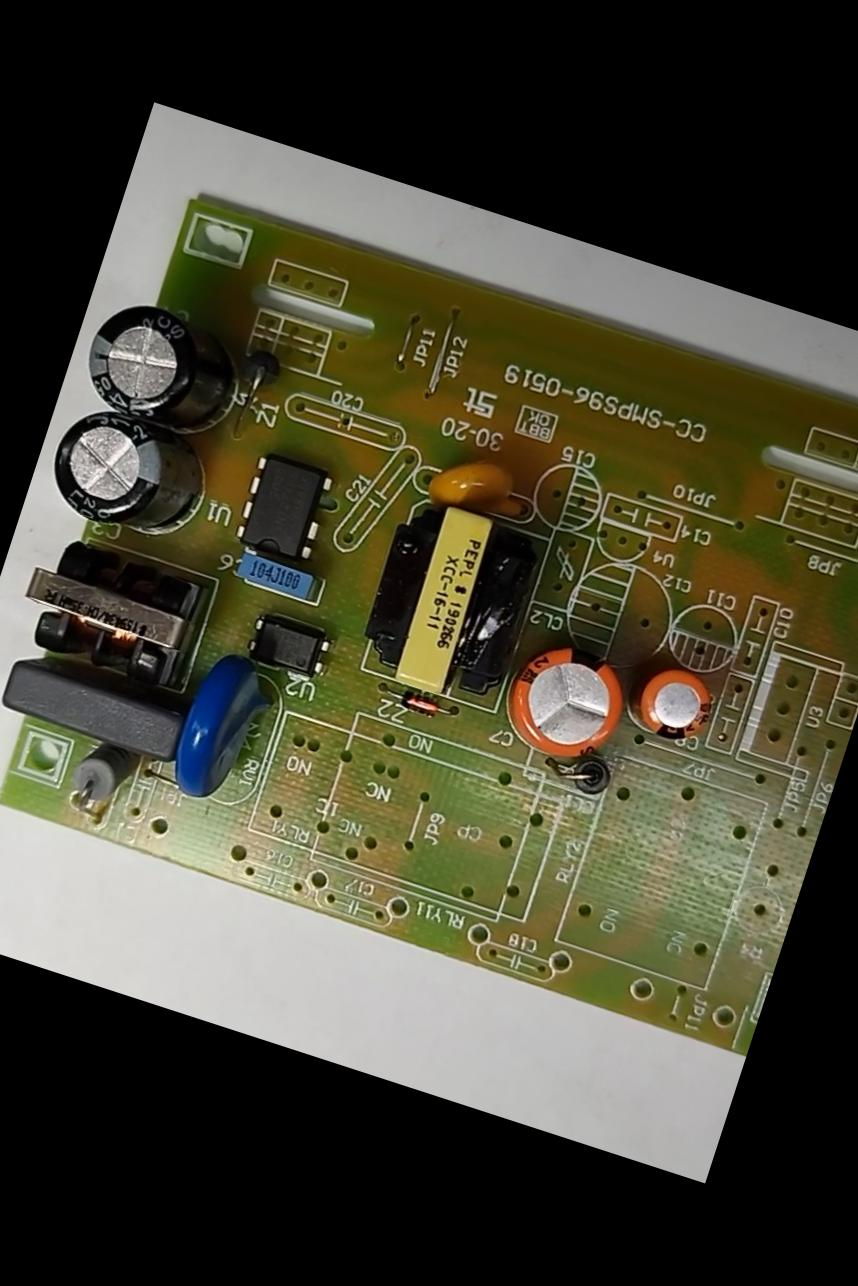Cap1: (485, 612, 656, 788)
Cap2: (606, 636, 728, 766)
Cap3: (32, 379, 224, 564)
Cap4: (56, 280, 271, 459)
MOSFET: (213, 430, 349, 584)
Mov: (147, 628, 305, 838)
Resistor: (51, 729, 147, 826)
Transformer: (340, 475, 564, 724), (1, 516, 221, 704)
